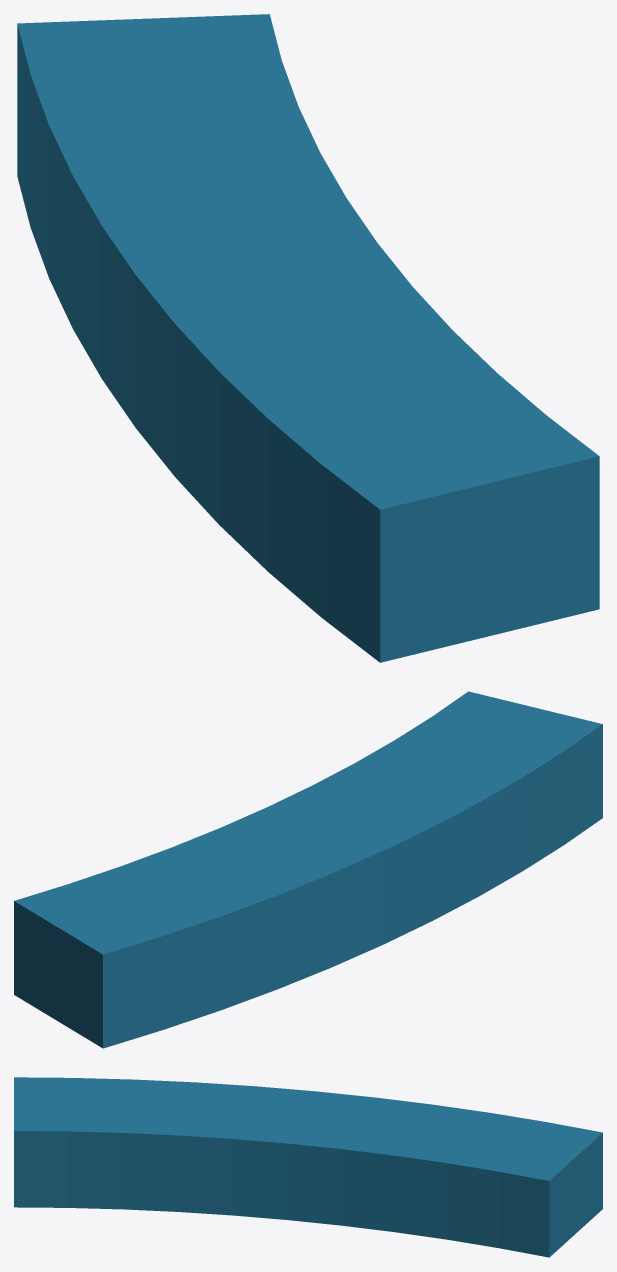
The model's file is 33Arch25.obj.
3 views of the same model, one above another, from view 1: azimuth 30°, elevation 25°; view 2: azimuth 150°, elevation 25°; view 3: azimuth 270°, elevation 25° (orthographic). The views are drawn at different scales.
Parts seen in each view (by area): view 1: 33Arch25; view 2: 33Arch25; view 3: 33Arch25.
Boxes of the visible parts, <box> form: 33Arch25: <box>17,14,599,662</box>; 33Arch25: <box>14,691,602,1048</box>; 33Arch25: <box>14,1077,602,1257</box>.
Bounding box in the file's own units: 0.5811 × 0.2 × 1.39.
